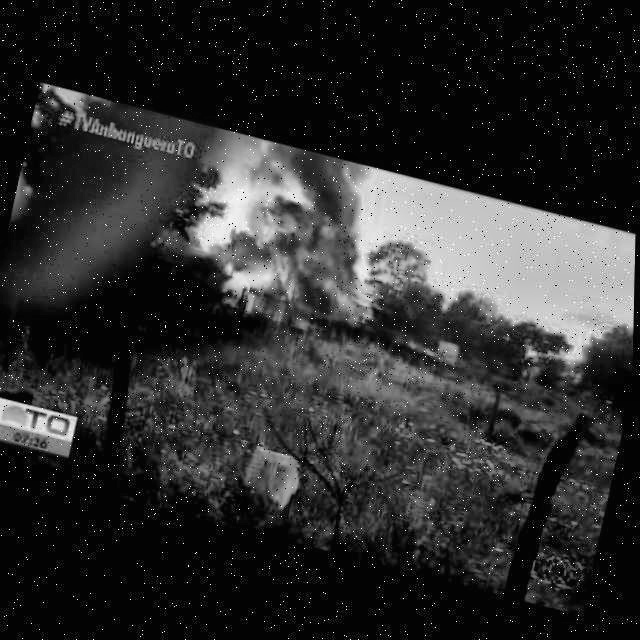Fire: (247, 152, 398, 324), (248, 131, 404, 217)
